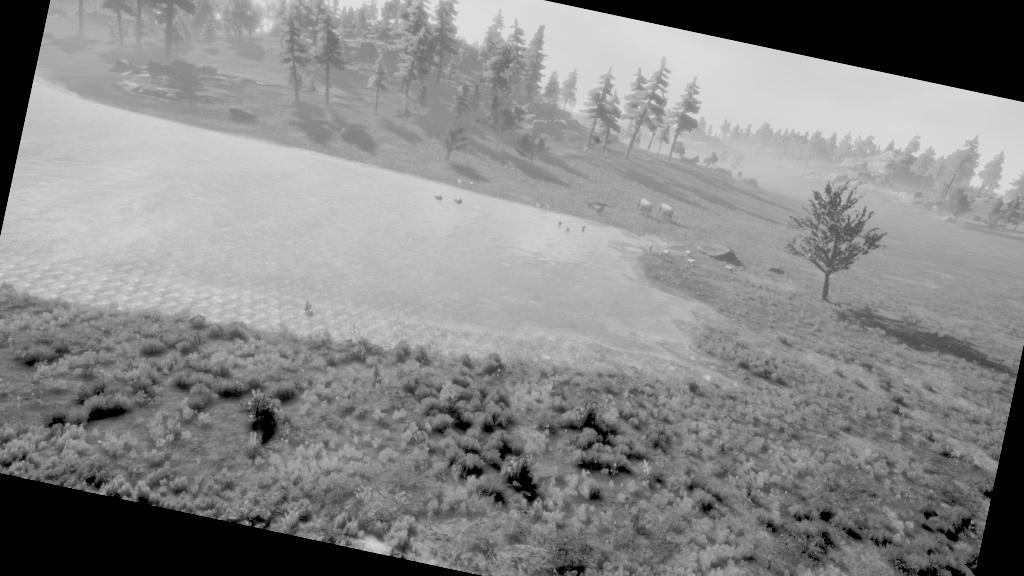Fire: (629, 212, 659, 243)
elephant: (656, 202, 676, 223), (634, 196, 654, 216)
hippopotamus: (431, 190, 445, 204), (450, 194, 464, 206)
human: (646, 243, 654, 256), (578, 225, 588, 234), (682, 230, 688, 242), (556, 220, 563, 230), (564, 226, 571, 236), (658, 252, 663, 260)
pig: (660, 248, 672, 256), (684, 249, 694, 257), (685, 258, 695, 266), (723, 266, 732, 274)
